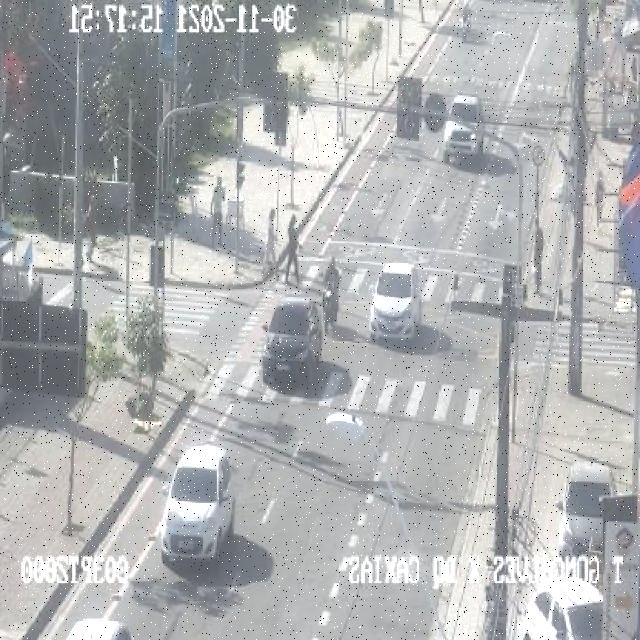Car: (158, 445, 234, 564), (260, 296, 323, 386), (518, 575, 605, 640), (558, 461, 614, 558), (368, 260, 422, 344), (442, 94, 486, 165), (59, 618, 133, 640), (460, 2, 492, 39), (423, 92, 449, 132), (606, 107, 636, 141), (621, 16, 639, 48)
Cycle: (319, 276, 343, 335)
